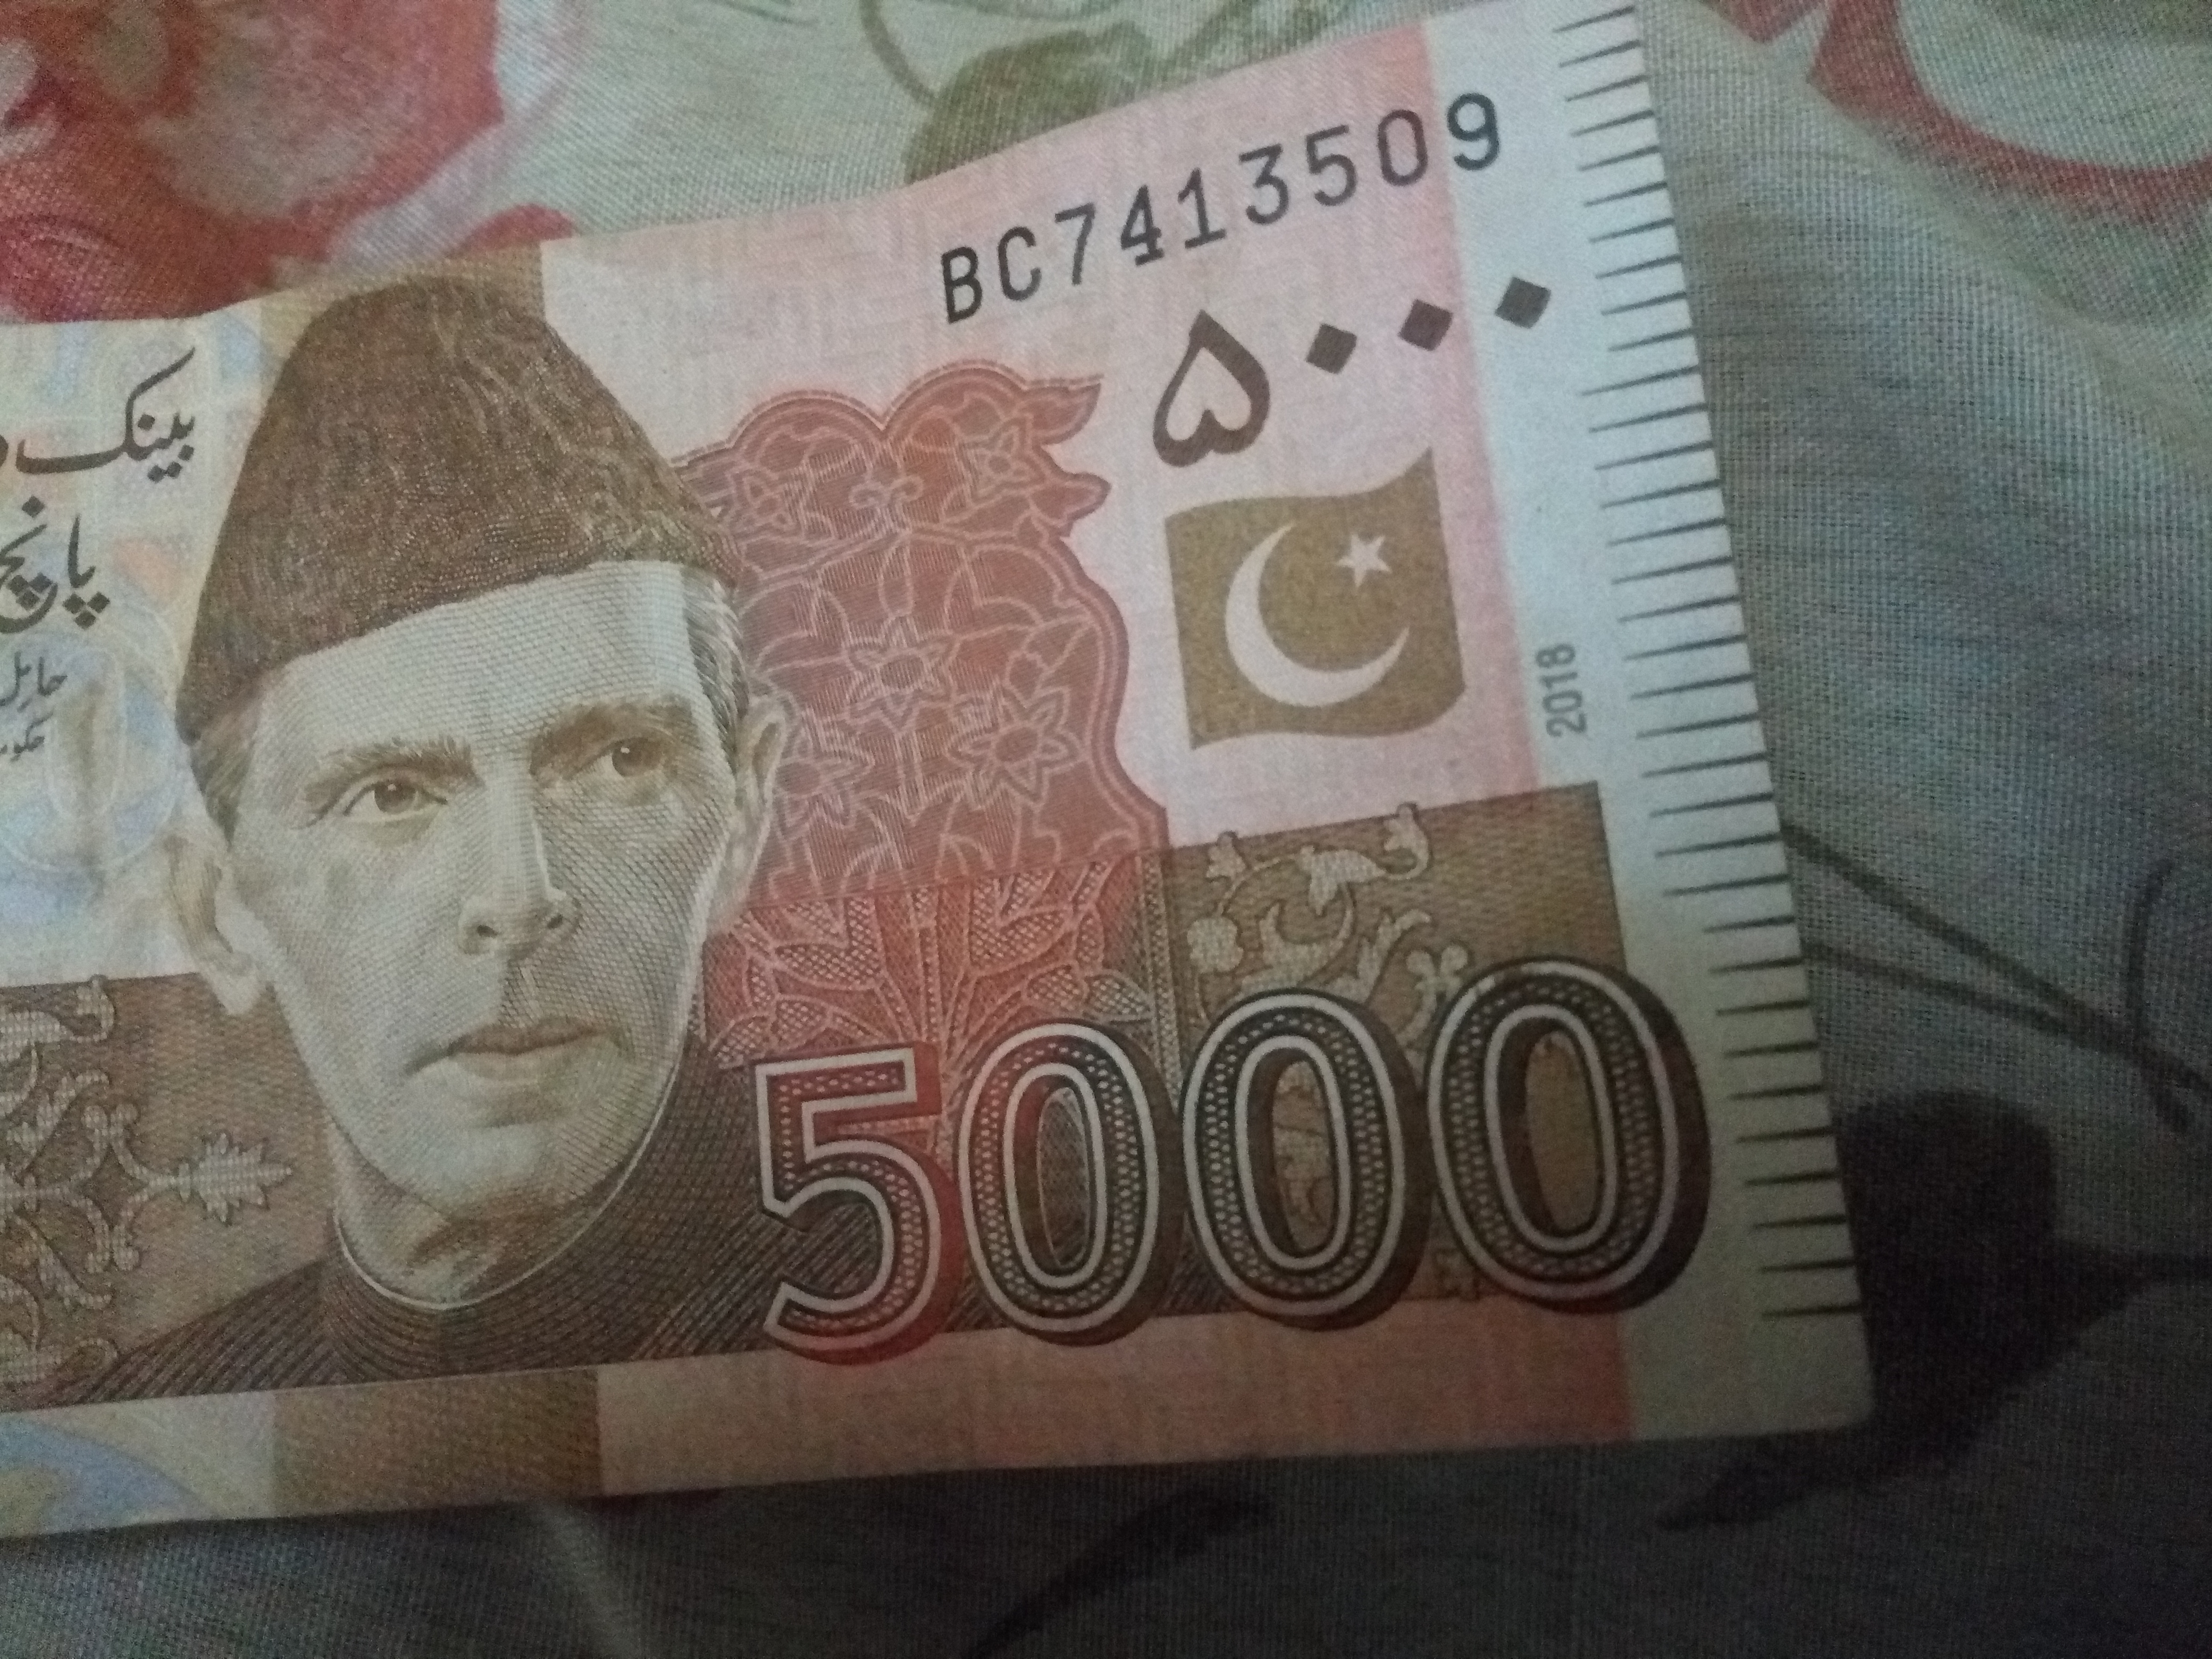5000 rupee: (40, 78, 1949, 1574), (587, 857, 1780, 1405)
